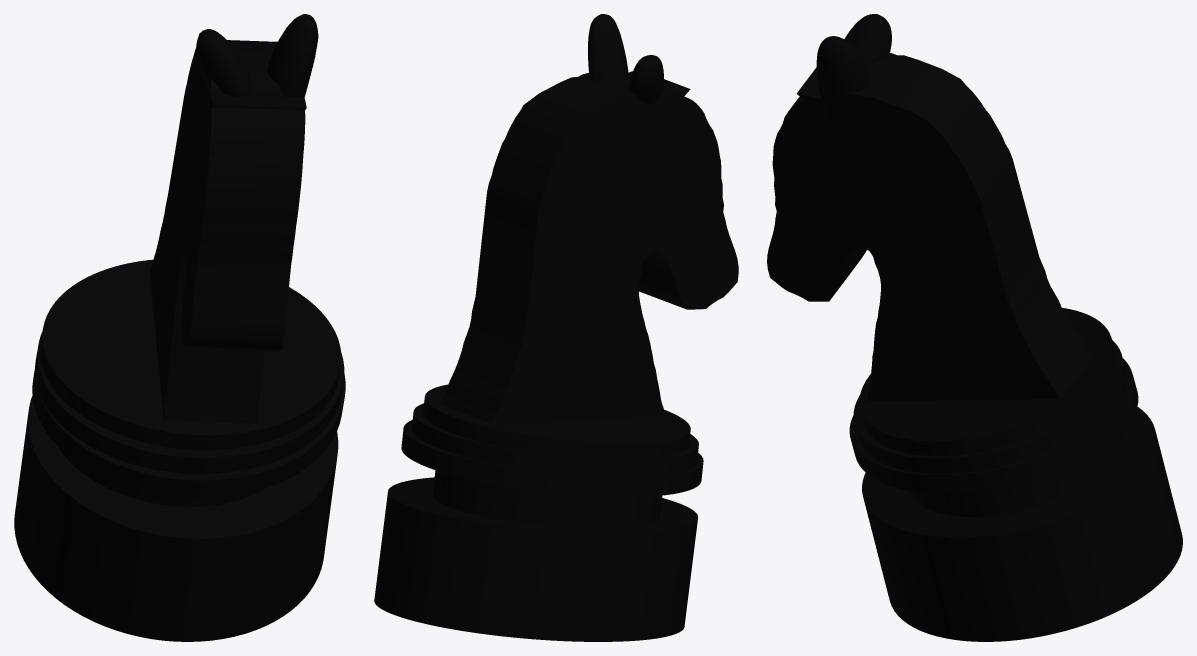
3 renders of one model, left to right at view 1: azimuth 30°, elevation 25°; view 2: azimuth 150°, elevation 25°; view 3: azimuth 270°, elevation 25°, orthographic. The views are drawn at different scales.
Visible parts, largest first — view 1: mesh_id53, mesh_id94, mesh_id88, mesh_id56, mesh_id77, mesh_id62, mesh_id79, mesh_id86; view 2: mesh_id53, mesh_id94, mesh_id88, mesh_id77, mesh_id56, mesh_id62, mesh_id79, mesh_id86; view 3: mesh_id53, mesh_id94, mesh_id88, mesh_id56, mesh_id77, mesh_id62, mesh_id79, mesh_id86.
Boxes of the visible parts, x1,y1,x2,y2 form: mesh_id53: (150,40,306,423); mesh_id94: (14,395,338,641); mesh_id88: (58,268,310,506); mesh_id56: (40,259,341,450); mesh_id77: (32,369,345,498); mesh_id62: (35,332,344,473); mesh_id79: (266,14,318,97); mesh_id86: (196,29,252,96); mesh_id53: (440,71,738,423); mesh_id94: (374,477,697,641); mesh_id88: (432,406,669,528); mesh_id77: (401,420,703,497); mesh_id56: (423,384,690,460); mesh_id62: (411,403,698,478); mesh_id79: (588,14,628,80); mesh_id86: (628,55,663,104); mesh_id53: (767,53,1092,401); mesh_id94: (862,406,1182,641); mesh_id88: (884,319,1124,516); mesh_id56: (859,308,1116,455); mesh_id77: (849,358,1138,493); mesh_id62: (853,340,1127,473); mesh_id79: (816,36,870,120); mesh_id86: (844,14,891,65).
Bounding box in the file's own units: 0.0615 × 0.1273 × 0.083.
Materials: 8 (8 with a texture image).
